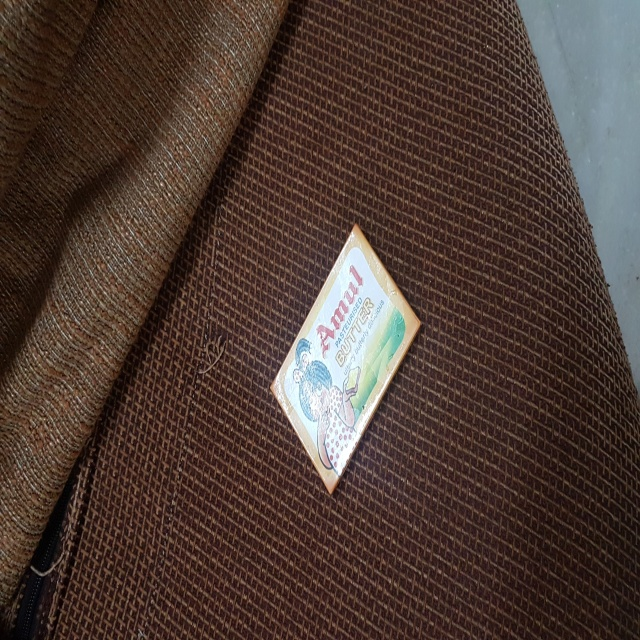butter: (258, 225, 433, 497)
